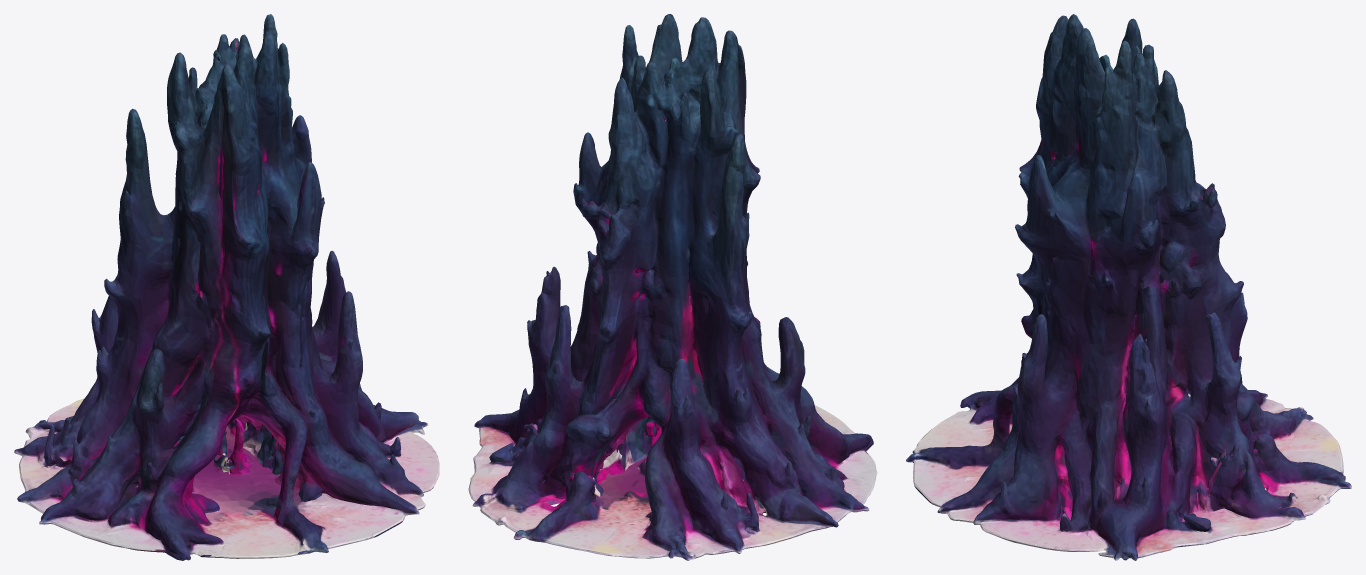
File: root-southeast-generated-2026-04-19T17-16-26-636Z.high.glb
3 views of the same model, side by side, from view 1: azimuth 30°, elevation 25°; view 2: azimuth 150°, elevation 25°; view 3: azimuth 270°, elevation 25° (orthographic). The views are drawn at different scales.
Visible parts, largest first — view 1: temp_mesh.ply; view 2: temp_mesh.ply; view 3: temp_mesh.ply.
Boxes of the visible parts, x1,y1,x2,y2 form: temp_mesh.ply: [14, 14, 439, 560]; temp_mesh.ply: [468, 14, 877, 560]; temp_mesh.ply: [906, 14, 1351, 560].
Size of the model in its own units: 1.8 by 1.97 by 1.77.
1 material, 1 textured.
